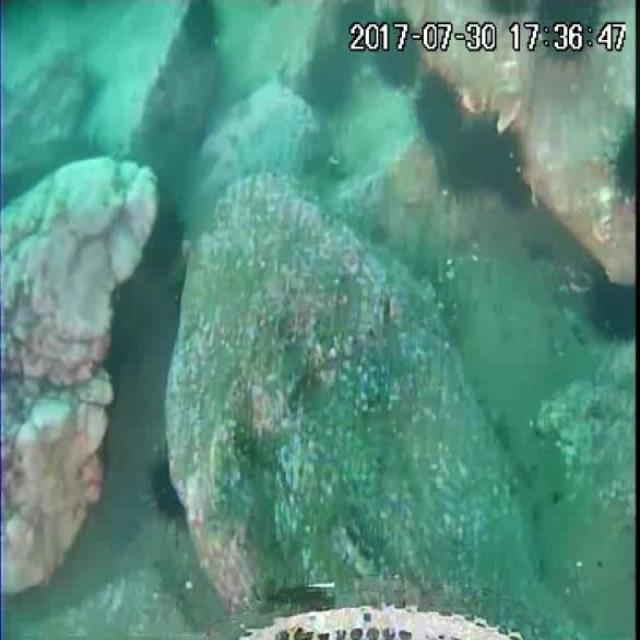echinus: (448, 112, 520, 203), (534, 0, 601, 65), (585, 270, 640, 342), (367, 11, 418, 88), (415, 74, 466, 146), (138, 201, 186, 276), (308, 44, 358, 115), (146, 456, 187, 527), (614, 115, 640, 208), (180, 0, 222, 51)
